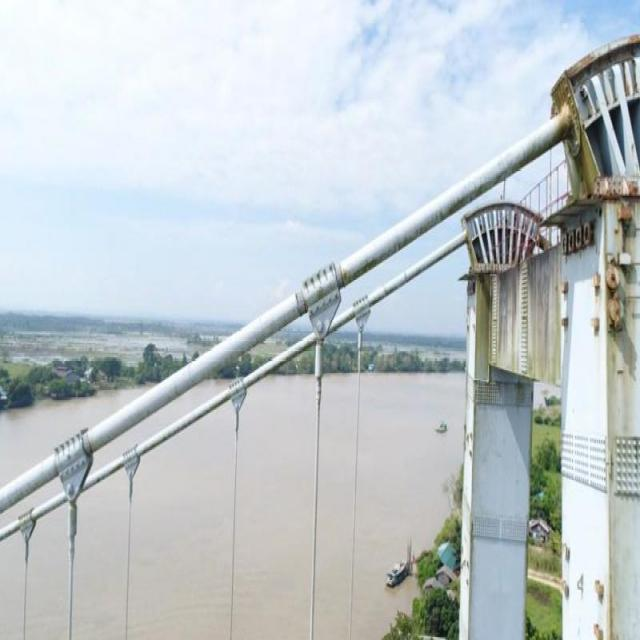Slippage: (296, 289, 308, 315), (81, 431, 92, 456), (335, 263, 344, 289)
